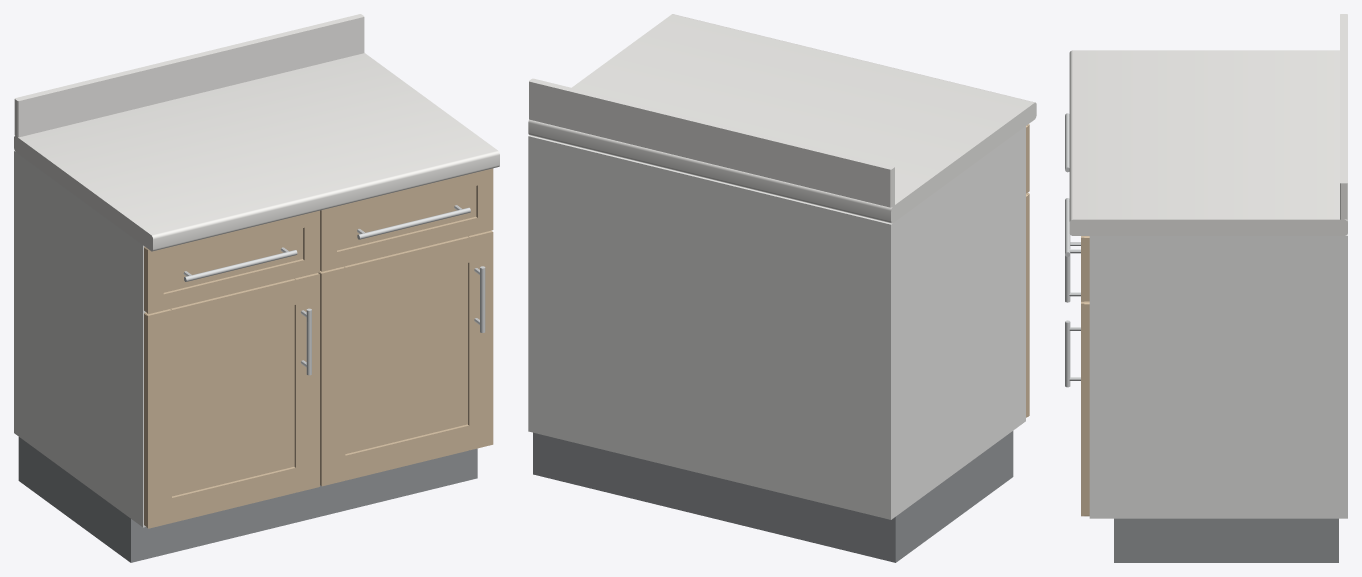
3 renders of one model, left to right at view 1: azimuth 30°, elevation 25°; view 2: azimuth 150°, elevation 25°; view 3: azimuth 270°, elevation 25°, orthographic. The views are drawn at different scales.
Parts seen in each view (by area): view 1: Tủ bếp dưới Dài=900; Sâu=580; view 2: Tủ bếp dưới Dài=900; Sâu=580; view 3: Tủ bếp dưới Dài=900; Sâu=580.
Boxes of the visible parts, x1,y1,x2,y2 form: Tủ bếp dưới Dài=900; Sâu=580: (14,14,499,562); Tủ bếp dưới Dài=900; Sâu=580: (528,14,1036,562); Tủ bếp dưới Dài=900; Sâu=580: (1065,14,1347,562).
Size of the model in its own units: 0.9 by 0.94 by 0.635.
